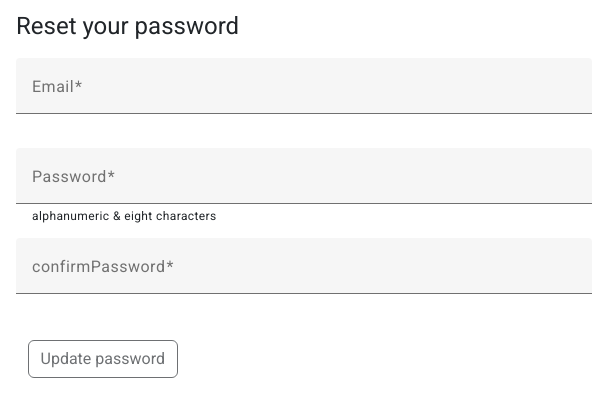
Test: ResetPasswordComponent › form completion and submission › confirmPassword control › should show match validation messages when password and confirm password do not match
This screenshot has width=609, height=395.
Type "yJwbgyieB4" into the password field with placeholder "password" at x=304, y=184, box x1=32 y1=172 x2=576 y2=196
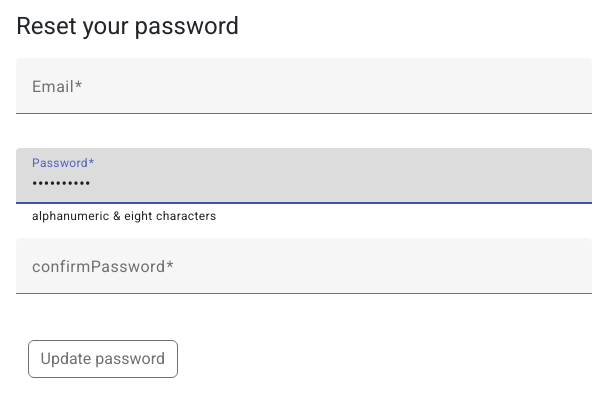
Type "not-match" into the password field with id "confirmPassword" at x=304, y=274, box x1=32 y1=262 x2=576 y2=286
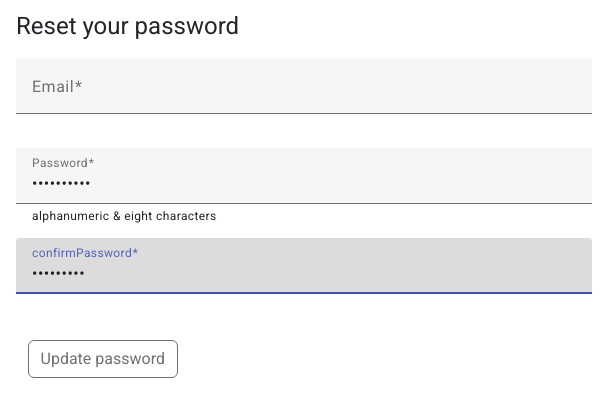
Leave the password field below "confirmPassword", box x1=32 y1=262 x2=576 y2=286
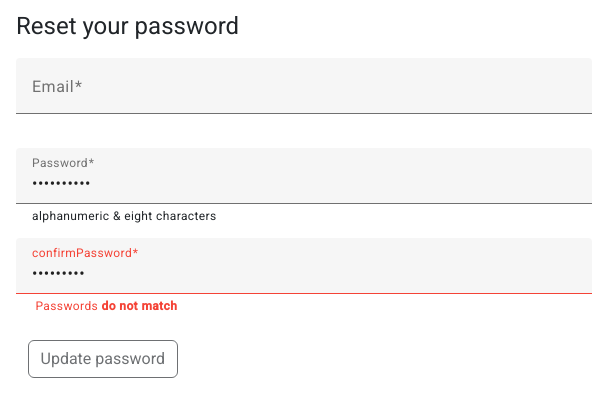
expect the element showing "Passwords do not match" is shown: met, box x1=32 y1=299 x2=177 y2=313
